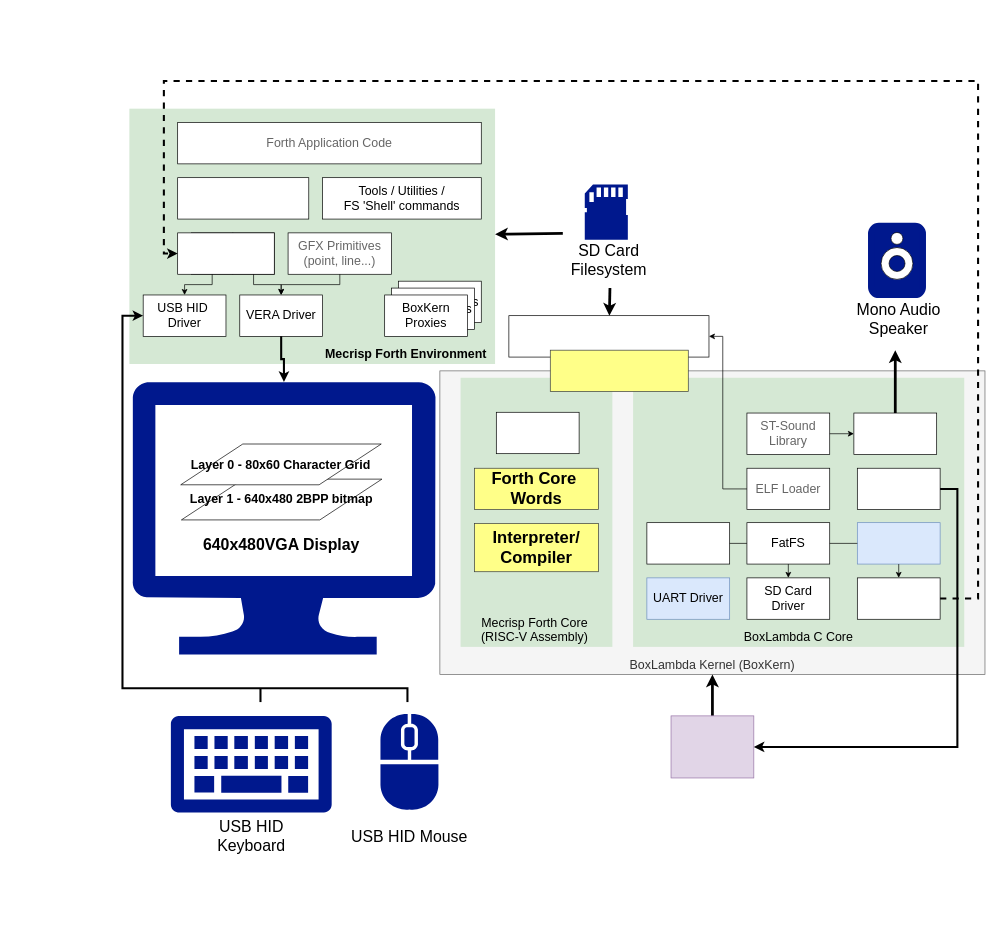
Image size: 997x925. Some labels were removed from this diagram. Each missing label, with the box of its shape:
Binary Executables: (508, 315, 709, 357)
Canvas REPL / Editor: (177, 232, 274, 274)
Console Driver: (857, 577, 940, 619)
Flash Driver: (857, 468, 940, 510)
Flash Memory: (670, 715, 754, 778)
Forth FFI: (550, 349, 688, 392)
FS Access: (496, 412, 579, 454)
PicoLibc: (857, 522, 940, 564)
RISC-V Assembler/ Disassembler: (177, 177, 309, 219)
RTC Timekeeping: (646, 522, 730, 564)
YM2149 PSG Driver: (853, 412, 937, 454)
